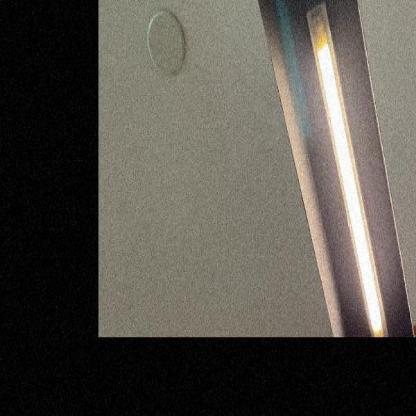light_on: (297, 0, 394, 337)
